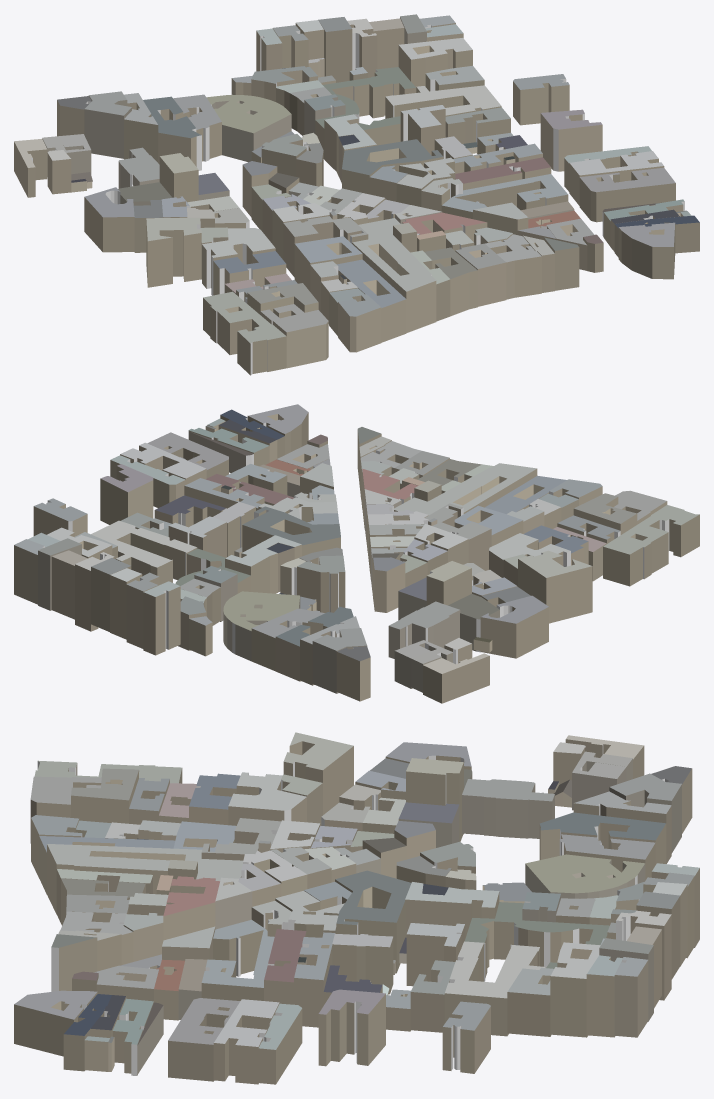
3 renders of one model, top to bottom at view 1: azimuth 30°, elevation 25°; view 2: azimuth 150°, elevation 25°; view 3: azimuth 270°, elevation 25°, orthographic. The views are drawn at different scales.
Parts seen in each view (by area): view 1: tuile; view 2: tuile; view 3: tuile.
Part boxes in pixels (left/top/right/bottom): tuile: left=14, top=14, right=699, bottom=375; tuile: left=14, top=404, right=699, bottom=703; tuile: left=14, top=732, right=699, bottom=1084.
Bounding box in the file's own units: 273 × 43.27 × 265.
